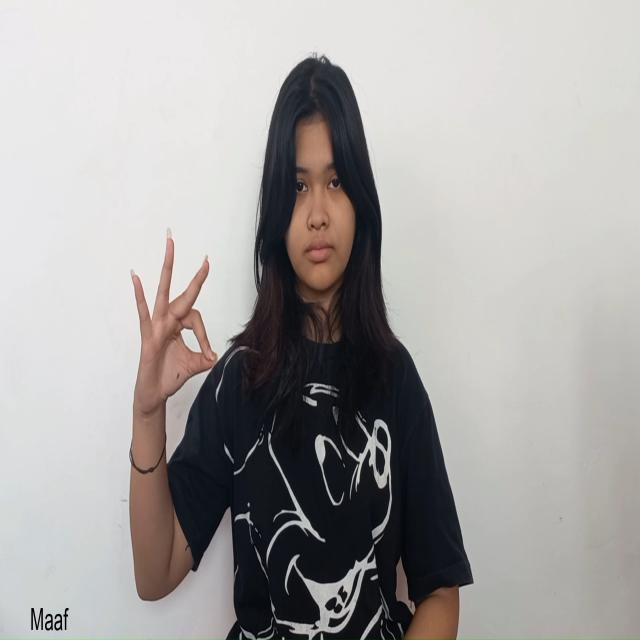Maaf -BISINDO-: (128, 224, 220, 449)
